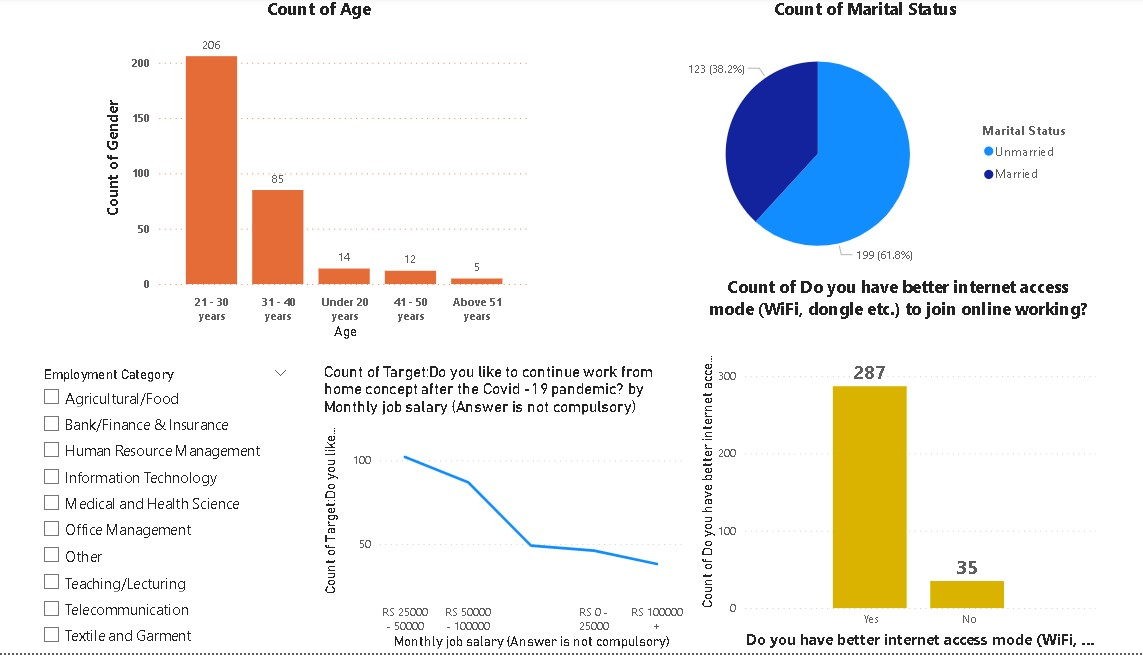

What the dashboard file says about the page in this screenshot:
{"tool":"powerbi","page":{"name":"Page 1","canvas":[1280,720],"ordinal":0},"visuals":[{"type":"clusteredColumnChart","title":"Count of Age ","fields":{"Category":["data.Age"],"Y":["CountNonNull(data.Gender)"]},"box":[113.9,0,476.2,380.1],"z":0},{"type":"pieChart","title":"Count of Marital Status","fields":{"Y":["CountNonNull(data.Marital Status)"],"Category":["data.Marital Status"]},"box":[713.6,0,476.2,319.7],"z":1000},{"type":"slicer","fields":{"Values":["data.Employment Category "]},"box":[37,400.7,292.3,319.7],"z":2000},{"type":"lineChart","fields":{"Category":["data.Monthly job salary (Answer is not compulsory)"],"Y":["CountNonNull(data.Target:Do you like to continue work from home concept after the Covid -19 pandemic?)"]},"box":[352.7,400.7,407.5,319.7],"z":3000},{"type":"clusteredColumnChart","title":"Count of Do you have better internet access mode (WiFi, dongle etc.) to join online working? ","fields":{"Category":["data.Do you have better internet access mode (WiFi, dongle etc.) to join online working?"],"Y":["CountNonNull(data.Do you have better internet access mode (WiFi, dongle etc.) to join online working?)"]},"box":[765.7,304.6,444.6,415.8],"z":4000}]}

Visuals, with their boxes in screenshot pixels (x1, y1, x2, y2), scaled from the page's 1280x720 canvas onto the 1143x655 screenshot:
"Count of Age " clusteredColumnChart: Rect(102, 0, 527, 346)
"Count of Marital Status" pieChart: Rect(637, 0, 1062, 291)
slicer - data.Employment Category : Rect(33, 365, 294, 654)
lineChart - data.Monthly job salary (Answer is not compulsory) x CountNonNull(data.Target:Do you like to continue work from home concept after the Covid -19 pandemic?): Rect(315, 365, 679, 654)
"Count of Do you have better internet access mode (WiFi, dongle etc.) to join online working? " clusteredColumnChart: Rect(684, 277, 1081, 654)
